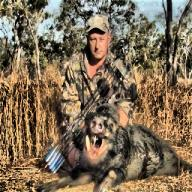boar: (36, 102, 191, 191)
